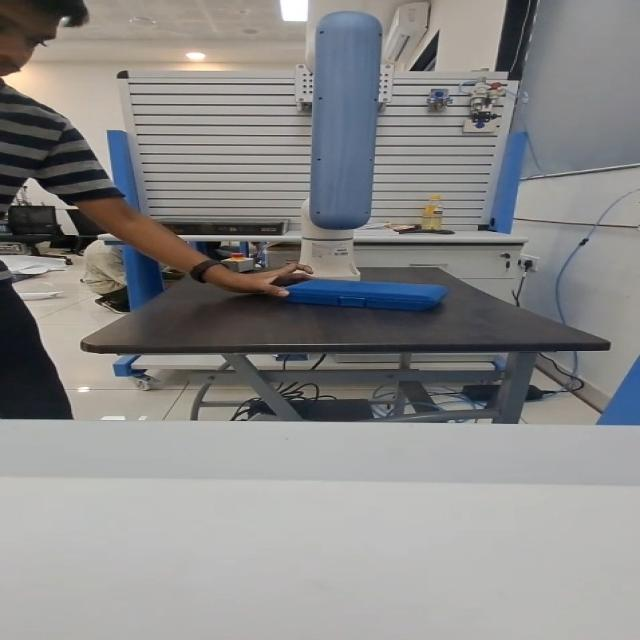top-surface: (302, 281, 427, 294)
